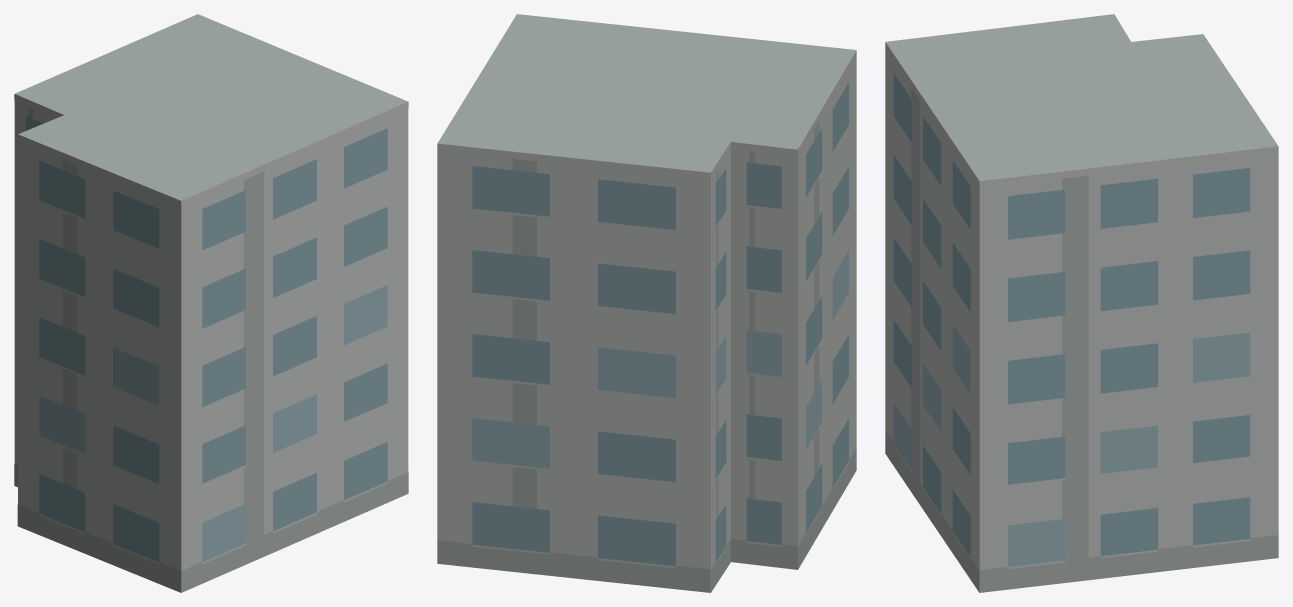
Rendered from survey-upis-32987560.glb.
3 renders of one model, left to right at view 1: azimuth 30°, elevation 25°; view 2: azimuth 150°, elevation 25°; view 3: azimuth 270°, elevation 25°, orthographic. The views are drawn at different scales.
Parts seen in each view (by area): view 1: survey-upis-32987560.tmp; view 2: survey-upis-32987560.tmp; view 3: survey-upis-32987560.tmp.
Boxes of the visible parts, box(x1,y1,x2,y2) form: survey-upis-32987560.tmp: box(14, 14, 408, 592); survey-upis-32987560.tmp: box(437, 14, 856, 592); survey-upis-32987560.tmp: box(885, 14, 1278, 592).
Size of the model in its own units: 12.47 by 14.3 by 12.39.
